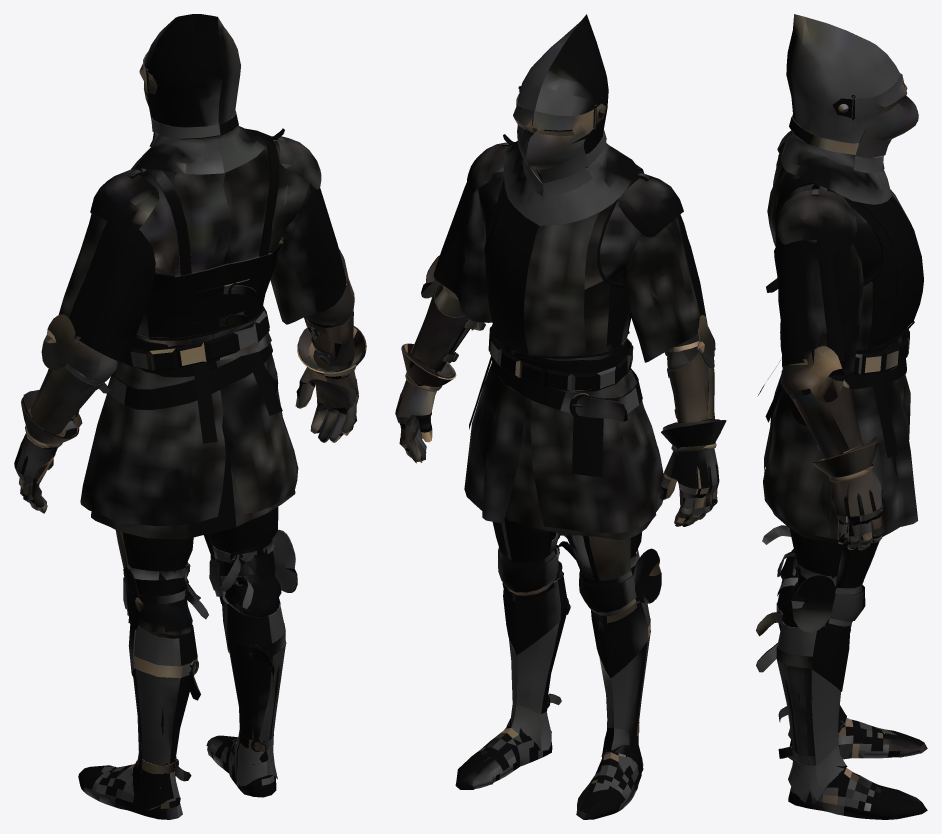
The picture shows the model from 3 angles, left to right: view 1: azimuth 30°, elevation 25°; view 2: azimuth 150°, elevation 25°; view 3: azimuth 270°, elevation 25°; orthographic projection. The views are drawn at different scales.
Parts seen in each view (by area): view 1: mesh_0; view 2: mesh_0; view 3: mesh_0.
Part boxes in pixels (left/top/right/bottom): mesh_0: left=14, top=14, right=366, bottom=819; mesh_0: left=395, top=14, right=726, bottom=819; mesh_0: left=756, top=14, right=927, bottom=819.
Bounding box in the file's own units: 31.78 × 71.32 × 14.56.
Materials: 1 (1 with a texture image).
